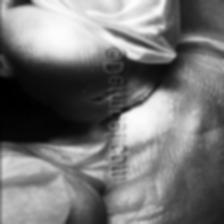Toxin: (111, 89, 175, 148), (45, 130, 100, 164)
